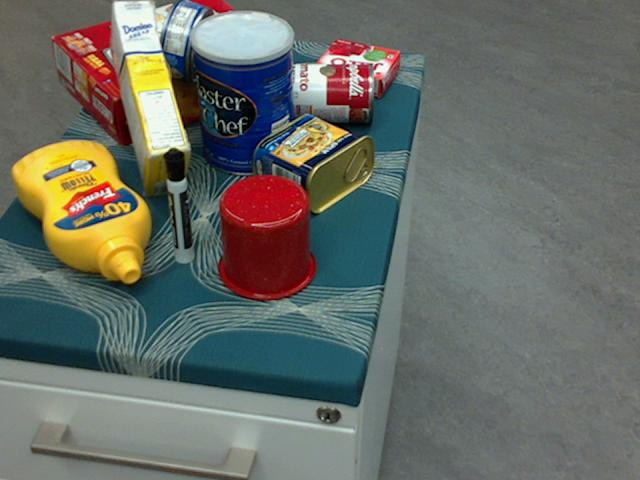cracker_box: (53, 0, 281, 146)
gelatin_box: (313, 40, 399, 95)
large_marker: (161, 148, 193, 262)
master_chef_can: (190, 10, 294, 175)
mug: (215, 173, 315, 299)
mustard_bottle: (11, 141, 150, 282)
potted_meat_can: (252, 111, 374, 214)
sugar_box: (110, 0, 191, 195)
tomato_soup_can: (281, 62, 373, 122)
tuna_fish_can: (157, 0, 214, 83)
